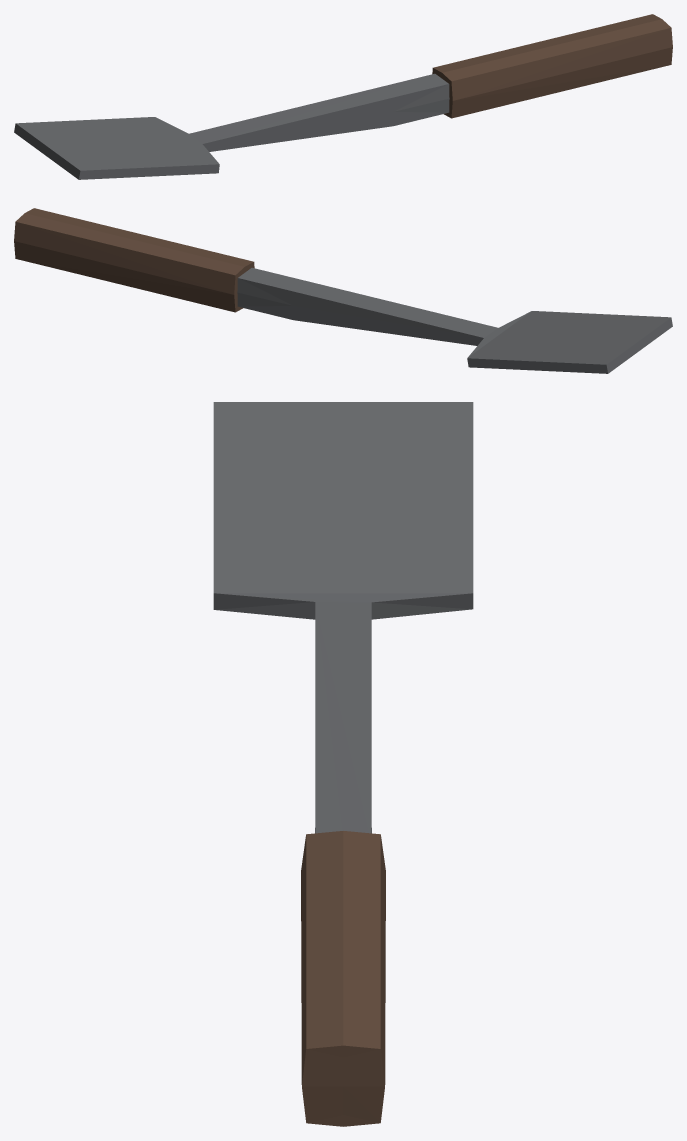
The model's file is spatula.fbx.
The picture shows the model from 3 angles, top to bottom: view 1: azimuth 30°, elevation 25°; view 2: azimuth 150°, elevation 25°; view 3: azimuth 270°, elevation 25°; orthographic projection. The views are drawn at different scales.
Parts seen in each view (by area): view 1: spatula; view 2: spatula; view 3: spatula.
Part boxes in pixels (left/top/right/bottom): spatula: left=14, top=14, right=672, bottom=179; spatula: left=14, top=208, right=672, bottom=373; spatula: left=213, top=402, right=473, bottom=1126.
Size of the model in its own units: 61.25 by 5.94 by 11.16.
1 material, 1 textured.
